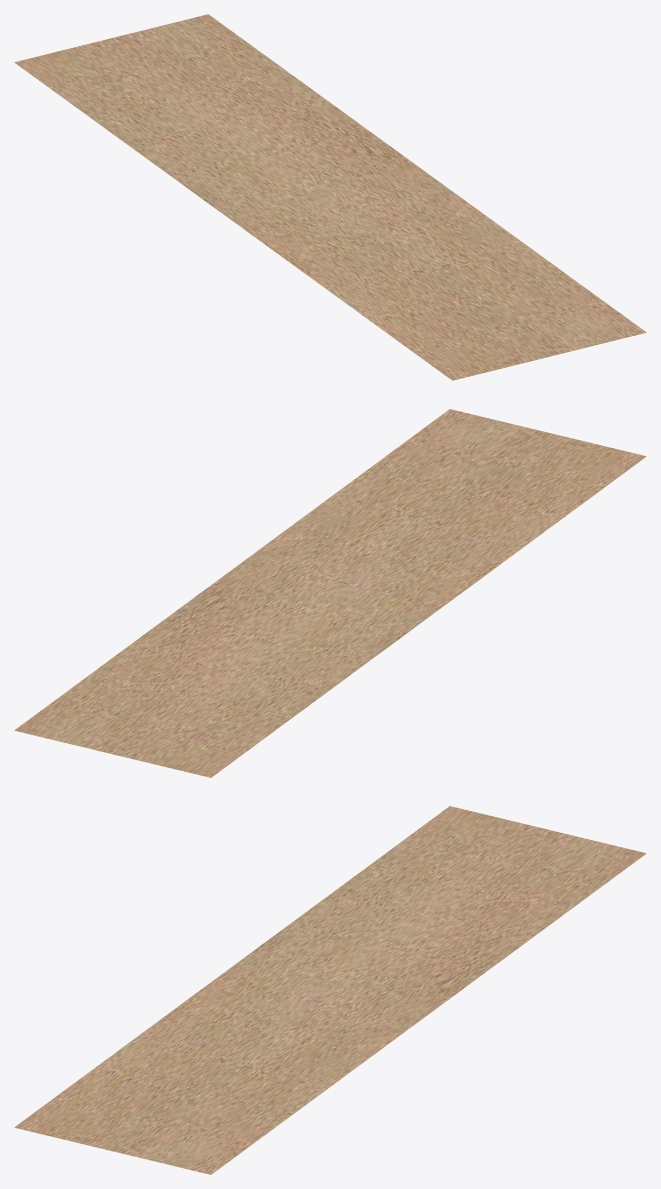
3 views of the same model, one above another, from view 1: azimuth 30°, elevation 25°; view 2: azimuth 150°, elevation 25°; view 3: azimuth 330°, elevation 25° (orthographic).
Parts seen in each view (by area): view 1: Plane.005; view 2: Plane.005; view 3: Plane.005.
Boxes of the visible parts, x1=… form: Plane.005: x1=14, y1=14, x2=646, y2=380; Plane.005: x1=14, y1=409, x2=646, y2=777; Plane.005: x1=14, y1=806, x2=646, y2=1174.
Bounding box in the file's own units: 109 × 0 × 418.
1 material, 1 textured.
